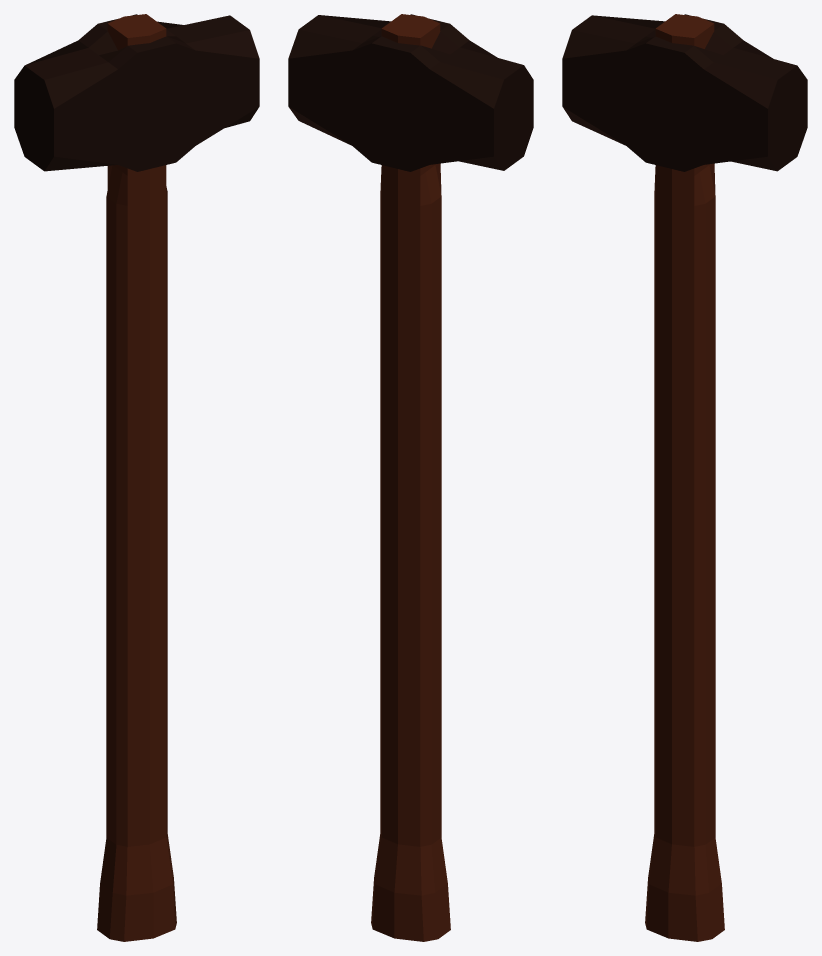
File: Hammer.fbx
The picture shows the model from 3 angles, left to right: view 1: azimuth 30°, elevation 25°; view 2: azimuth 150°, elevation 25°; view 3: azimuth 330°, elevation 25°; orthographic projection.
Parts seen in each view (by area): view 1: handle.001; view 2: handle.001; view 3: handle.001.
Part boxes in pixels (x1,y1,x2,y2): handle.001: (14,14,259,941); handle.001: (288,14,533,941); handle.001: (562,14,807,941).
Bounding box in the file's own units: 451 × 1885 × 151.
